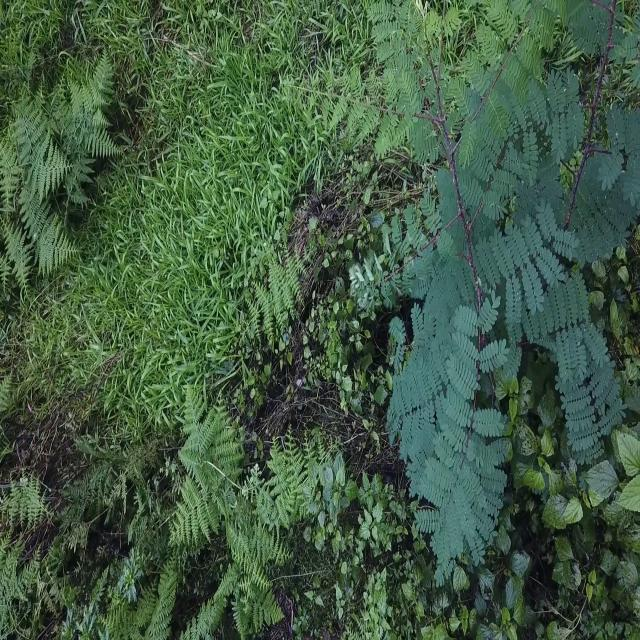Mysore-Thorn-Weed: (375, 0, 640, 568)
